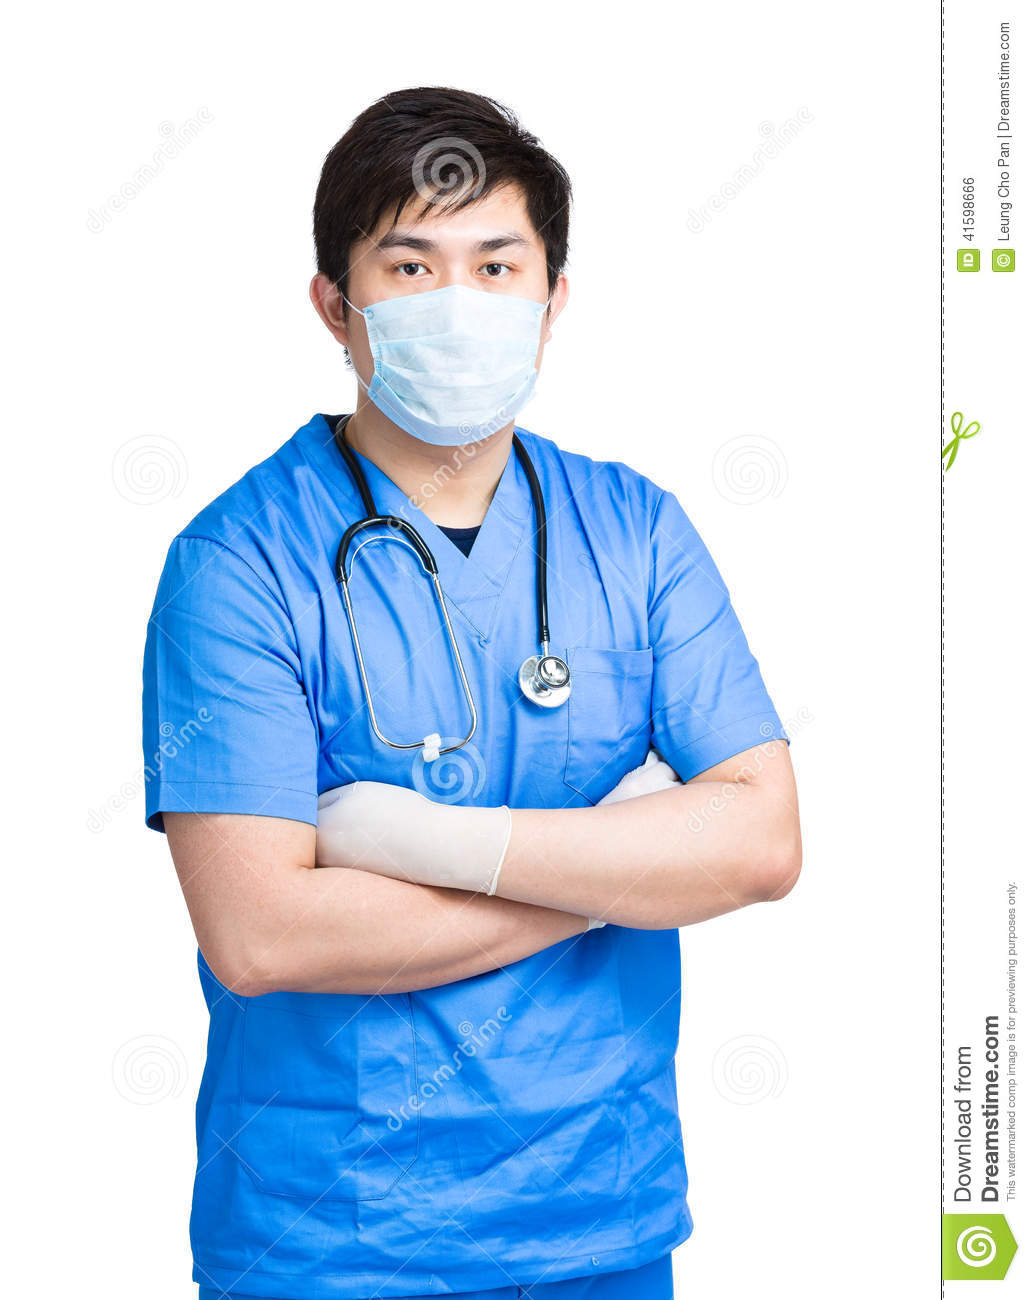mask: (341, 287, 559, 469)
